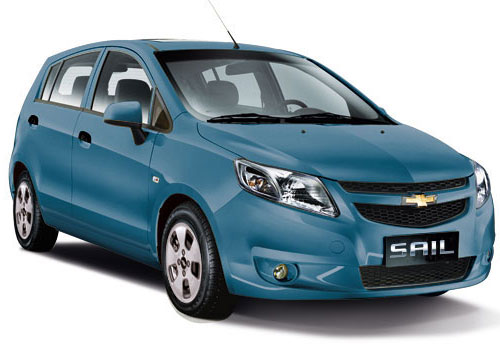Car: (4, 31, 492, 317)
